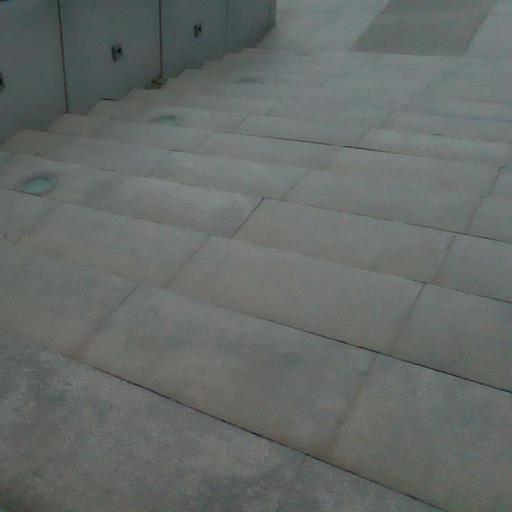stairs: (0, 48, 511, 511)
